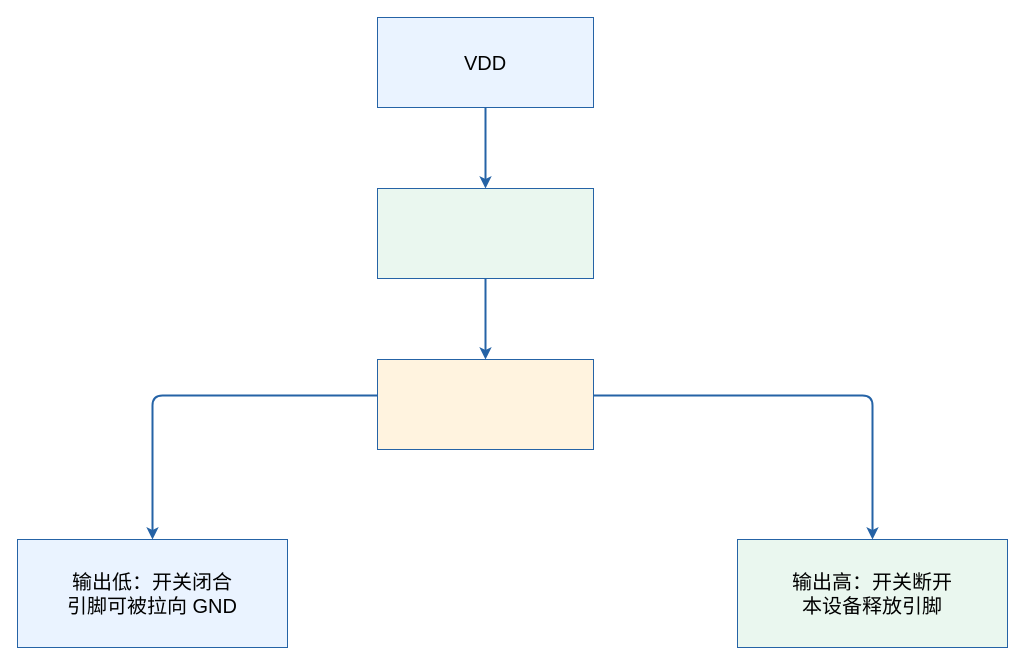
Image size: 1025x665. Some labels were removed from this diagram. Each missing label, with the centre of its shape:
上拉电阻 R: [485,233]
引脚节点 接输入缓冲: [485,404]
